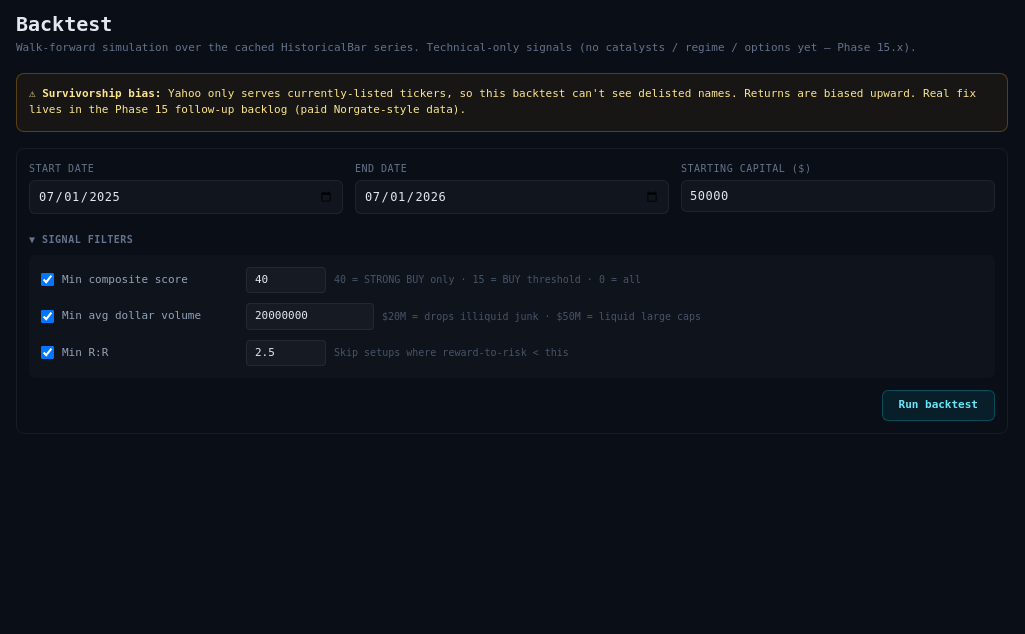
Scenario: BacktestPage › clicking Run streams progress then renders summary card + trade table
The image size is (1025, 634).
Click the button "Run backtest" at (938, 405), box [882, 390, 995, 420]
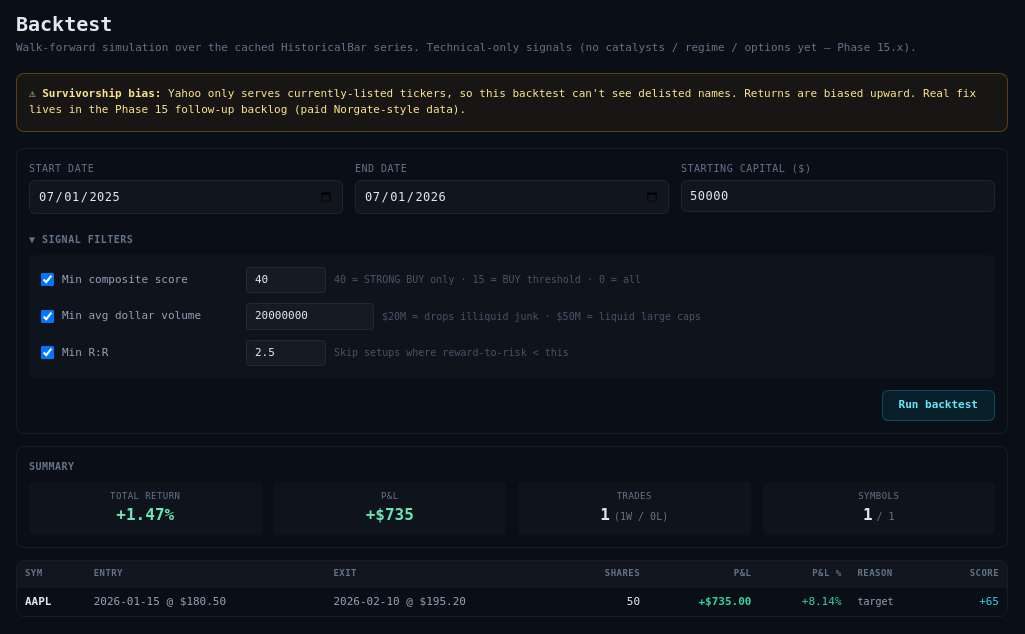
Expected: the text "+1.47%" is shown, [116, 505, 174, 524]
Expected: the text "AAPL" is shown, [17, 587, 86, 616]
Expected: the text "target" is shown, [850, 587, 934, 616]
